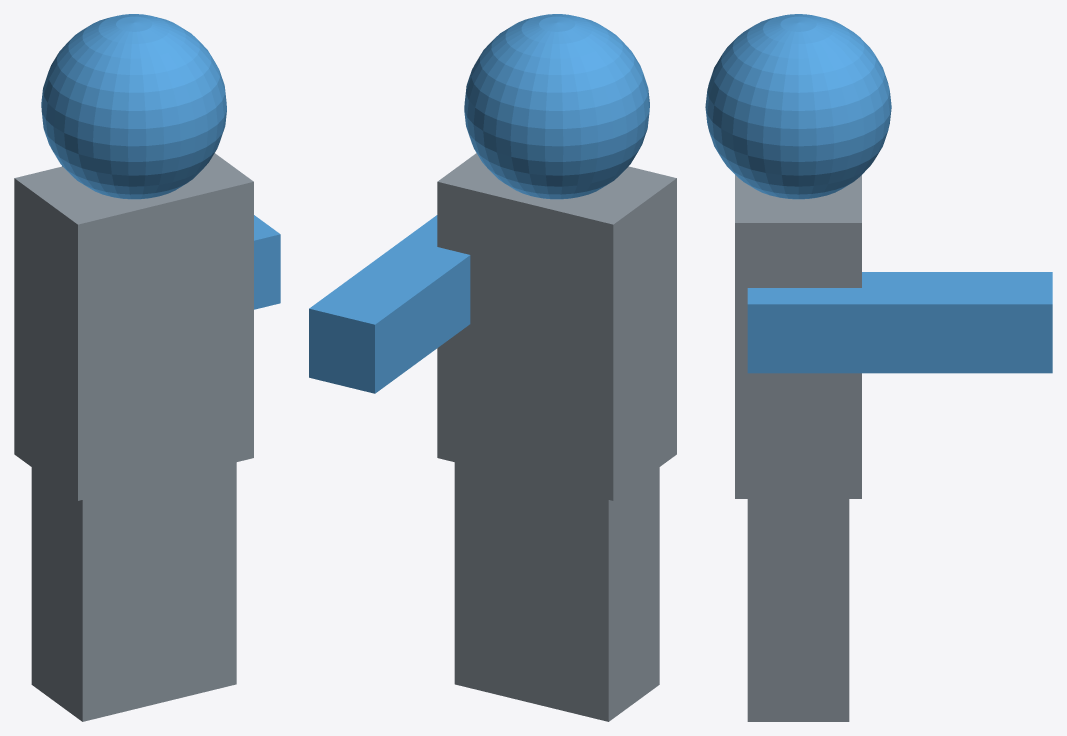
File: SM_Alliance_AL_SentinelRifleman_Blockout.fbx
3 renders of one model, left to right at view 1: azimuth 30°, elevation 25°; view 2: azimuth 150°, elevation 25°; view 3: azimuth 270°, elevation 25°, orthographic.
Parts seen in each view (by area): view 1: Torso, Legs, Head, Weapon; view 2: Torso, Legs, Head, Weapon; view 3: Weapon, Torso, Head, Legs.
Boxes of the visible parts, <box> form: Torso: <box>14,153,253,500</box>; Legs: <box>31,462,236,721</box>; Head: <box>41,14,226,199</box>; Weapon: <box>62,166,280,309</box>; Torso: <box>437,153,676,500</box>; Legs: <box>454,462,659,721</box>; Head: <box>464,14,649,199</box>; Weapon: <box>309,215,470,393</box>; Weapon: <box>747,272,1052,373</box>; Torso: <box>735,175,861,498</box>; Head: <box>705,14,891,199</box>; Legs: <box>747,499,849,721</box>.
Bounding box in the file's own units: 57 × 173 × 82.
